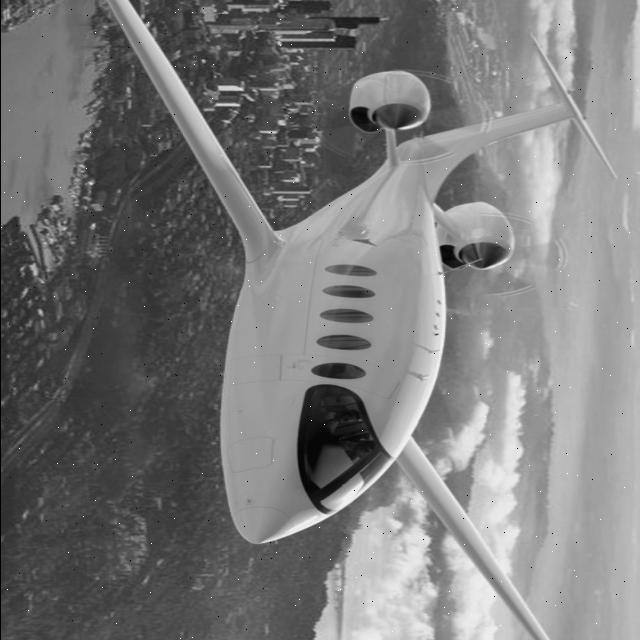jet: (83, 0, 629, 615)
